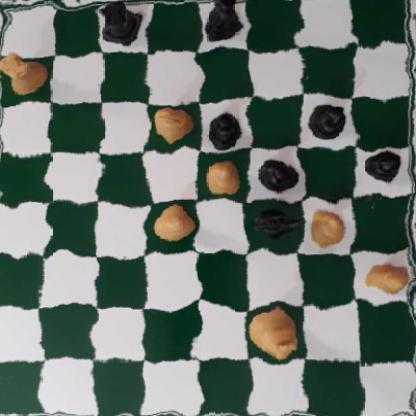black-king: (201, 0, 245, 50)
black-knight: (253, 207, 296, 246)
black-pawn: (257, 152, 296, 194), (309, 99, 346, 142), (207, 105, 242, 148), (361, 150, 403, 185)
black-rook: (99, 0, 146, 45)
white-bishop: (153, 106, 193, 143)
white-king: (251, 308, 300, 354)
white-pawn: (362, 250, 407, 295), (308, 207, 345, 248), (202, 161, 244, 197), (154, 206, 190, 243)
white-rook: (0, 54, 48, 99)
